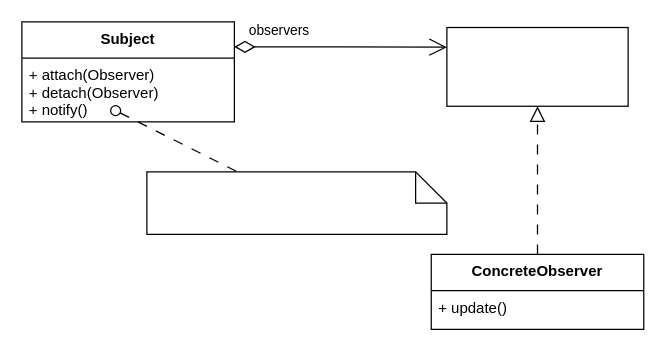
The diagram is 666 pixels wide and 355 high, and some of its shapes have lost their labels. The centre of each missing label's shape, as x and y in pixels:
"<<Interface>> Observer + update()" goes at point 537,66.
"for all in observers { o.update(); }" goes at point 296,202.
